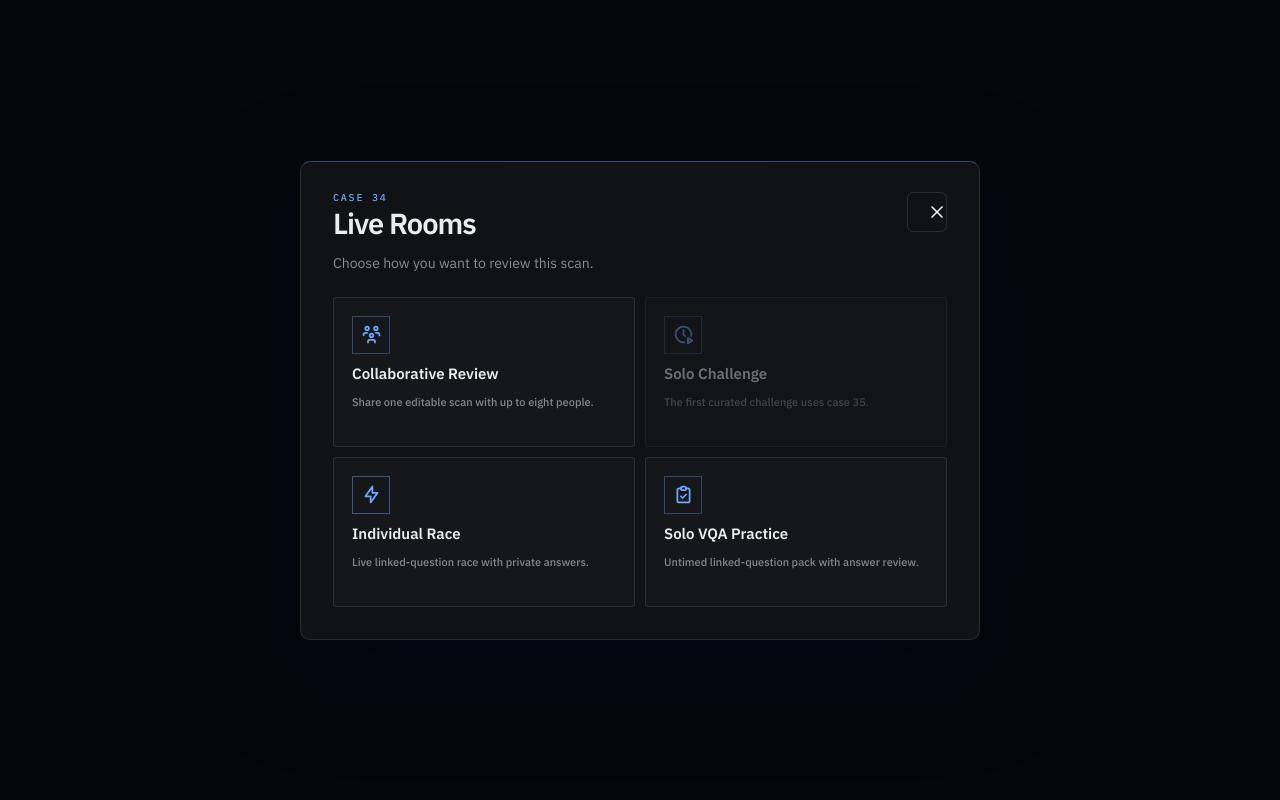
Test: Live Room mode menu › offers playlist races outside Case 35
Click the button "Individual Race" at (371, 494), box [333,456,635,606]
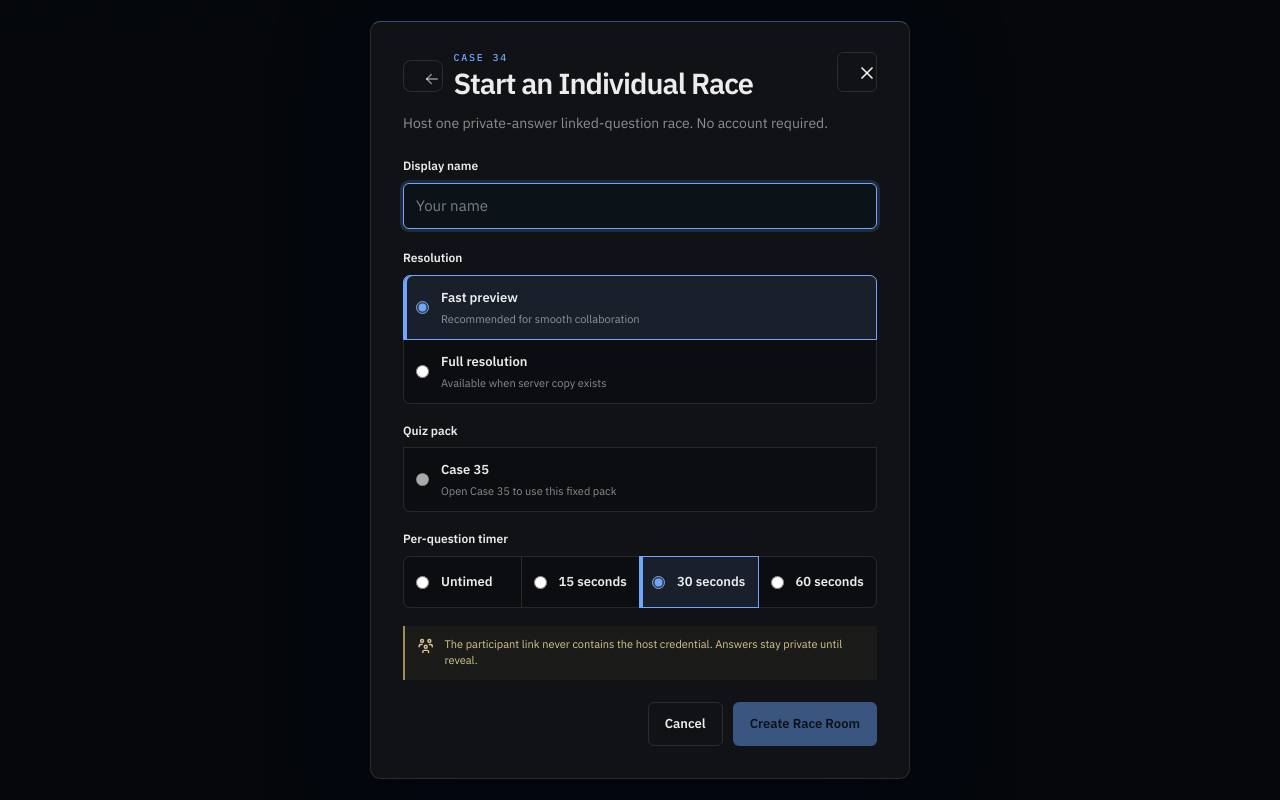
Expected: the radio button labelled "Case 35 Open Case 35 to use this fixed pack" is disabled, [416,473,429,486]
